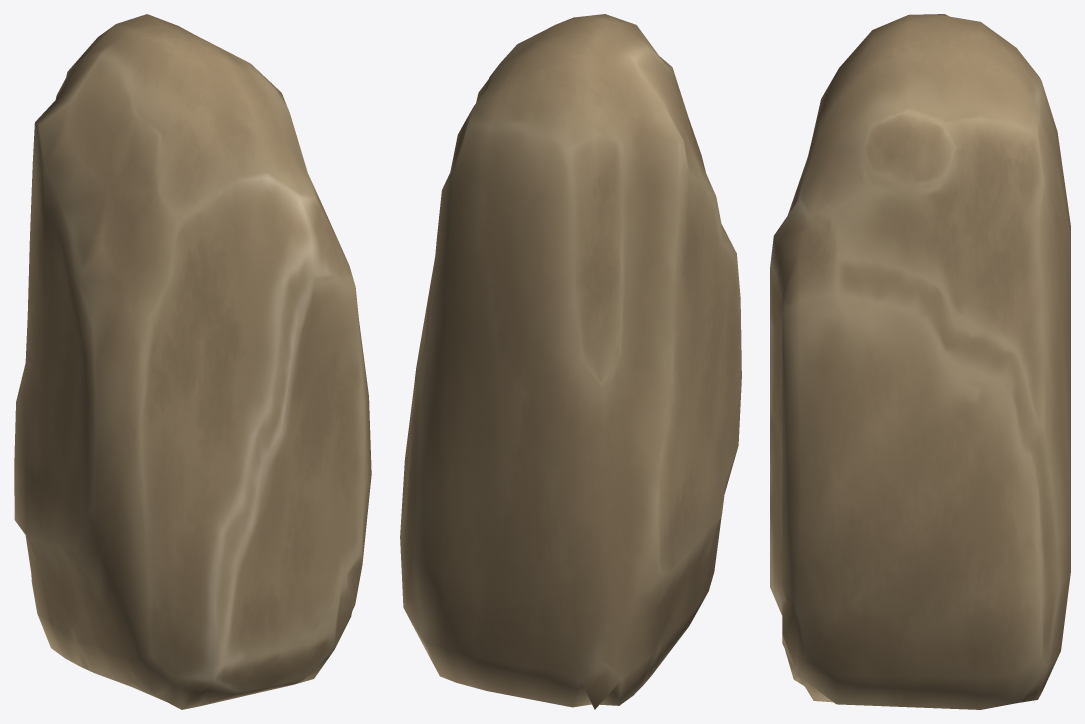
File: Rock_01.glb
The picture shows the model from 3 angles, left to right: view 1: azimuth 30°, elevation 25°; view 2: azimuth 150°, elevation 25°; view 3: azimuth 270°, elevation 25°; orthographic projection.
Parts seen in each view (by area): view 1: Cube.001; view 2: Cube.001; view 3: Cube.001.
Boxes of the visible parts, x1,y1,x2,y2 form: Cube.001: (14,14,371,709); Cube.001: (400,14,741,709); Cube.001: (770,14,1070,709).
Bounding box in the file's own units: 2.09 × 4.82 × 2.08.
Materials: 1 (1 with a texture image).
